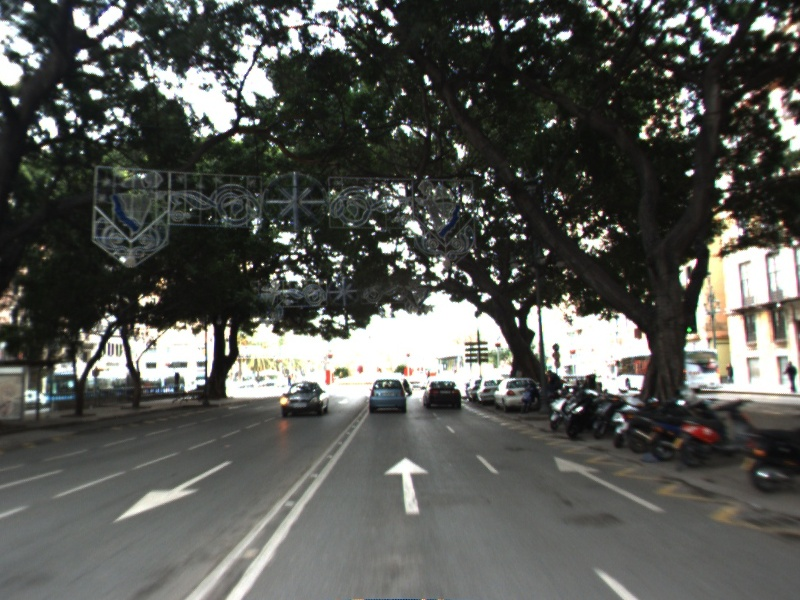STRAIGHT: (552, 454, 669, 515), (382, 454, 432, 517)
